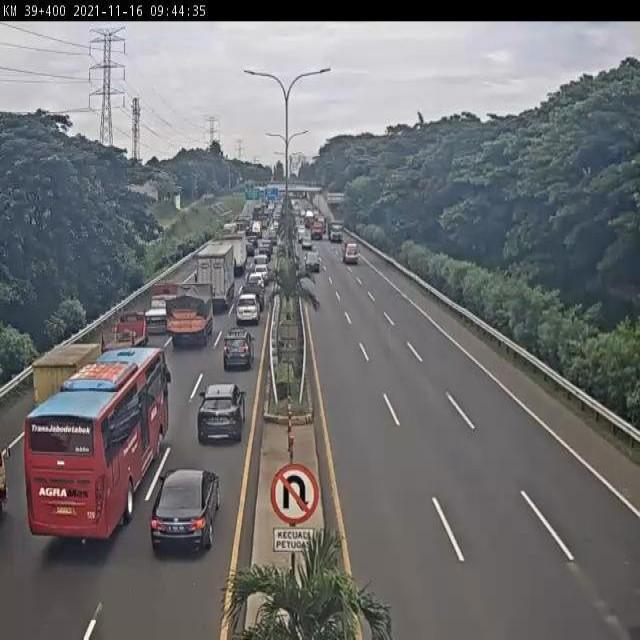big bus: (28, 349, 169, 540)
car: (152, 470, 222, 550), (199, 384, 245, 445), (222, 327, 252, 372), (236, 295, 258, 325), (242, 284, 265, 307), (247, 270, 266, 290)
small truck: (32, 342, 103, 414), (141, 282, 180, 334), (101, 312, 143, 359)
truck-l-: (195, 239, 237, 304)
truck-m-: (162, 289, 210, 348), (222, 236, 248, 272)
